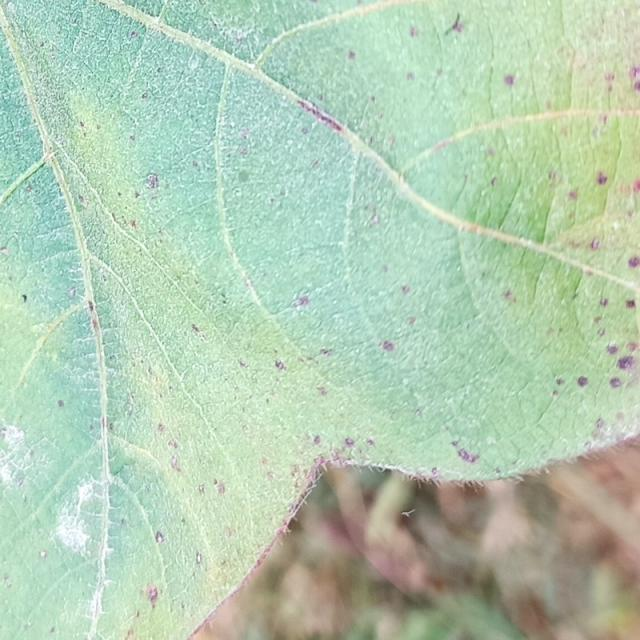Bacterial_Blight: (257, 151, 316, 213), (316, 439, 365, 475), (296, 97, 343, 133), (289, 478, 322, 516), (217, 21, 257, 45), (108, 446, 134, 475), (445, 10, 472, 37), (451, 441, 479, 463), (364, 205, 380, 225), (617, 355, 636, 371), (432, 139, 451, 153), (146, 586, 158, 607), (293, 294, 310, 308), (213, 479, 226, 496), (191, 324, 205, 339), (628, 66, 639, 85), (146, 173, 159, 189), (170, 456, 182, 473), (237, 169, 251, 183), (380, 340, 394, 352), (401, 508, 416, 519), (503, 74, 516, 86), (502, 290, 515, 302), (188, 57, 200, 70), (627, 256, 639, 268), (597, 172, 608, 185), (2, 574, 12, 588), (274, 360, 286, 371), (604, 72, 615, 84), (610, 377, 622, 388), (155, 531, 165, 544), (607, 344, 618, 355), (577, 376, 588, 387), (591, 238, 601, 250), (549, 170, 559, 182), (290, 465, 300, 477), (568, 189, 578, 201), (224, 526, 233, 539), (409, 26, 419, 37), (317, 386, 328, 396), (625, 299, 636, 309), (595, 418, 605, 429), (320, 348, 332, 357), (239, 147, 249, 157), (240, 129, 250, 139), (168, 440, 178, 450), (0, 247, 10, 256), (68, 288, 77, 298), (486, 148, 496, 157), (401, 285, 410, 295), (345, 437, 355, 446), (597, 327, 606, 337), (282, 526, 292, 535), (555, 377, 565, 386), (198, 484, 206, 495), (126, 627, 134, 638), (130, 30, 139, 39), (406, 72, 415, 81), (366, 438, 375, 447), (600, 298, 609, 307), (348, 50, 356, 60), (490, 177, 498, 187), (157, 423, 165, 433), (313, 435, 321, 445), (0, 427, 8, 437), (88, 301, 95, 312), (57, 399, 65, 408), (239, 359, 247, 368), (25, 184, 33, 193), (312, 160, 320, 169), (408, 316, 416, 325), (196, 552, 202, 564), (39, 550, 47, 559), (430, 468, 439, 476), (266, 471, 274, 480), (616, 412, 625, 420), (18, 477, 25, 487), (301, 127, 309, 135), (414, 408, 422, 416), (242, 425, 250, 433), (78, 195, 85, 204), (436, 68, 443, 77), (382, 264, 389, 273), (261, 457, 268, 466), (21, 294, 28, 302), (130, 220, 137, 228), (269, 198, 276, 206), (192, 160, 199, 168), (451, 440, 459, 447), (221, 296, 228, 304), (636, 179, 640, 192), (636, 79, 640, 92), (141, 92, 148, 99), (129, 135, 136, 142), (552, 390, 559, 397), (134, 191, 140, 199), (49, 626, 55, 634), (120, 518, 126, 526), (109, 422, 114, 431), (79, 121, 85, 128), (370, 96, 376, 103)
Cotton: (0, 0, 639, 639)
